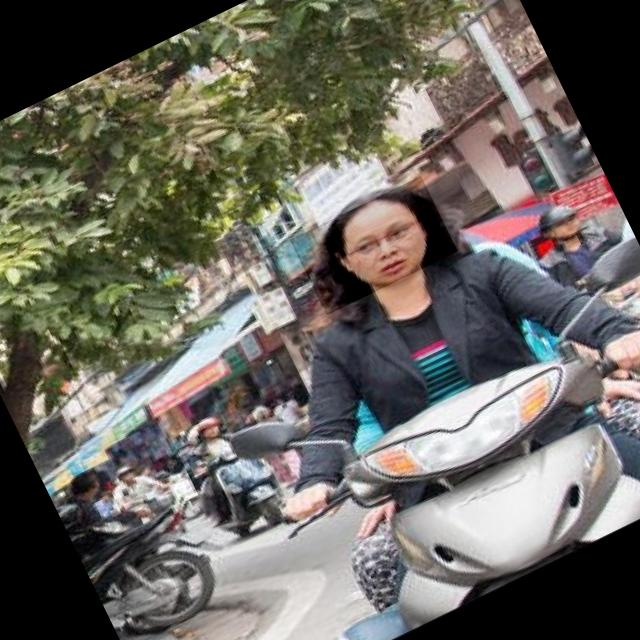without helmet: (290, 175, 458, 315)
